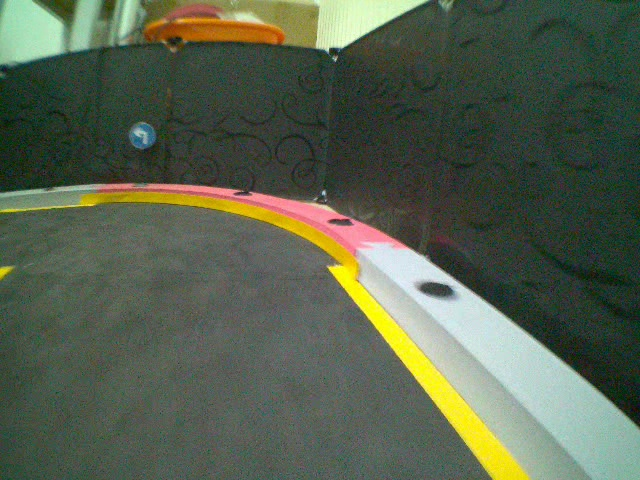turn: (124, 120, 160, 151)
